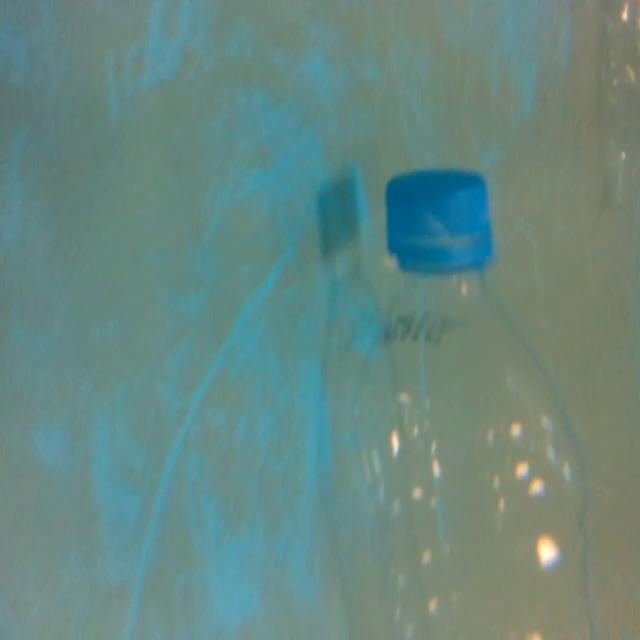plastic bottle: (331, 165, 596, 640)
